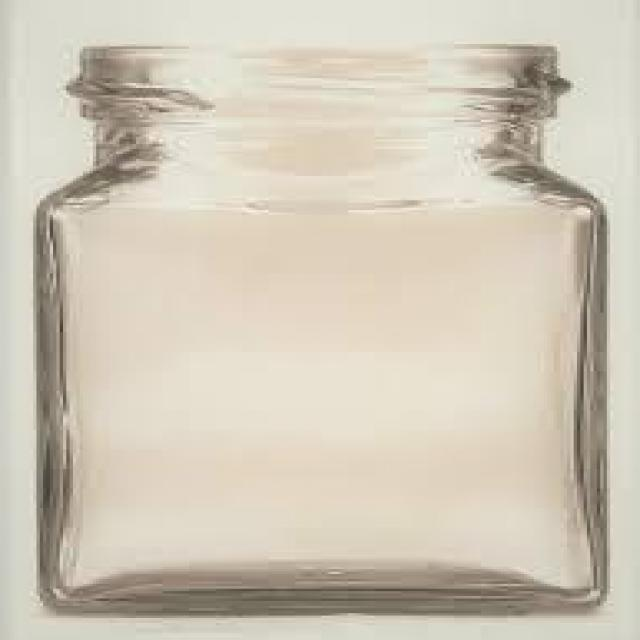glass: (32, 39, 616, 623)
